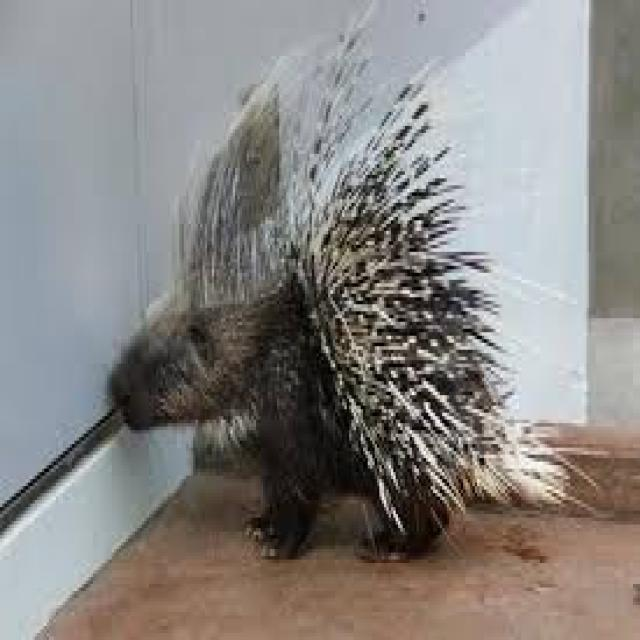Porcupine: (117, 51, 507, 558)
